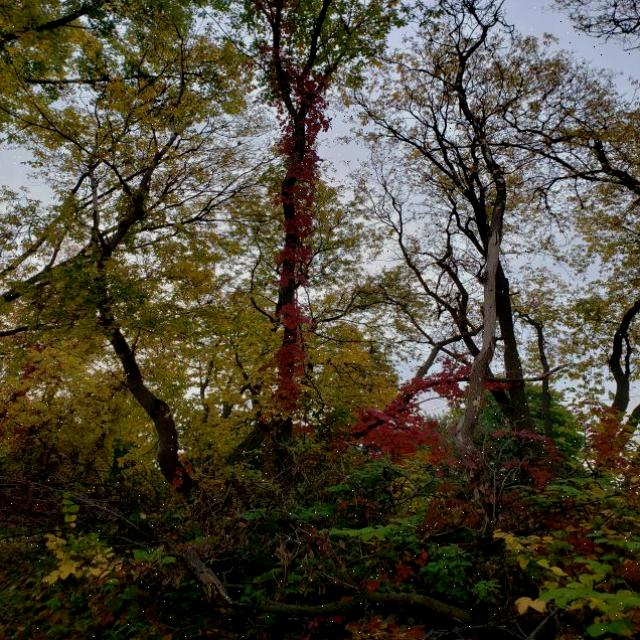fallen_object: (30, 476, 580, 640)
